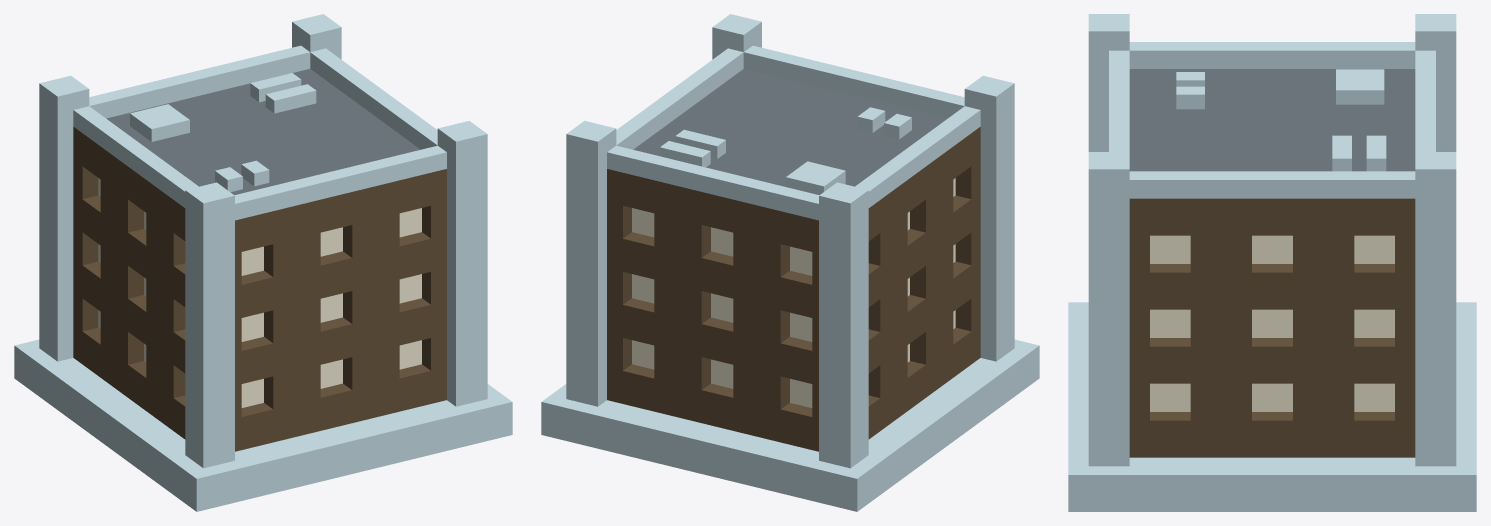
The model's file is Building_11_Base_Extra (Brown).obj.
3 views of the same model, side by side, from view 1: azimuth 30°, elevation 25°; view 2: azimuth 150°, elevation 25°; view 3: azimuth 270°, elevation 25° (orthographic). The views are drawn at different scales.
Visible parts, largest first — view 1: Building_11_Base_Extra_(Brown); view 2: Building_11_Base_Extra_(Brown); view 3: Building_11_Base_Extra_(Brown).
Part boxes in pixels (box(x1,y1,x2,y2)): Building_11_Base_Extra_(Brown): box(14, 14, 512, 511); Building_11_Base_Extra_(Brown): box(541, 14, 1039, 511); Building_11_Base_Extra_(Brown): box(1068, 14, 1476, 511).
Size of the model in its own units: 2 by 1.8 by 2.
